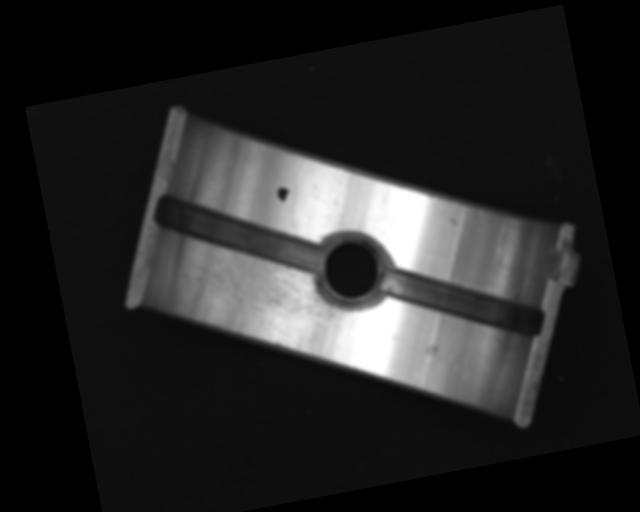blot: (275, 184, 292, 205)
bruise: (423, 341, 441, 362), (447, 217, 458, 228)
gap: (151, 169, 325, 299), (378, 244, 548, 363)
hole: (309, 225, 394, 318)
nick: (485, 215, 519, 265)
scratch: (189, 223, 360, 380)
